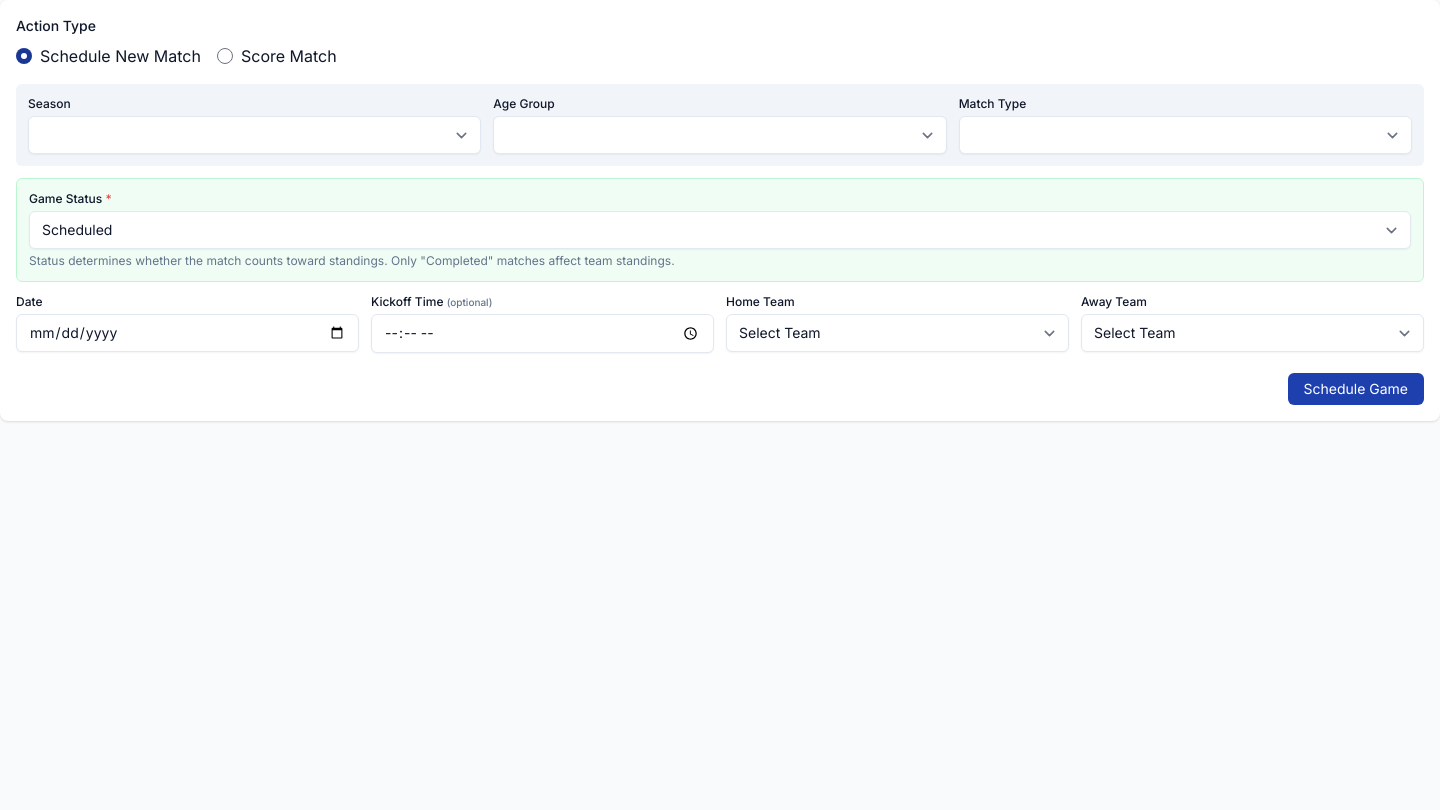
Test: MatchForm › form type toggle › shows score inputs in score mode
The image size is (1440, 810).
What coordinates should you click on to do the following:
click the radio button with test id "form-type-score"
I would click on:
 (225, 56)
Its box is [217,48,233,64].
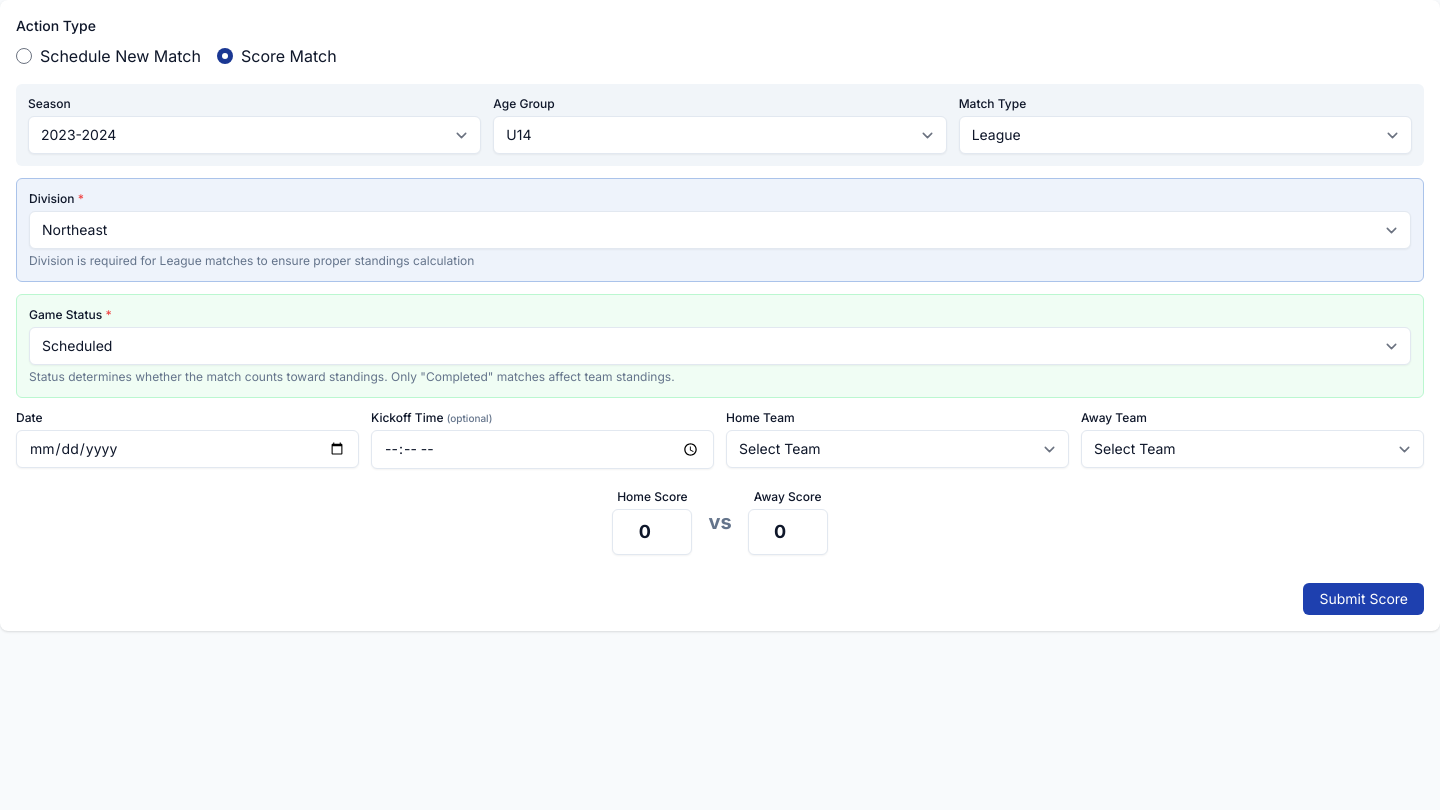
Expected: the element with test id "score-section" is shown, [612,489,828,555]
Expected: the number field with test id "home-score-input" is shown, [612,509,692,555]
Expected: the number field with test id "away-score-input" is shown, [748,509,828,555]
